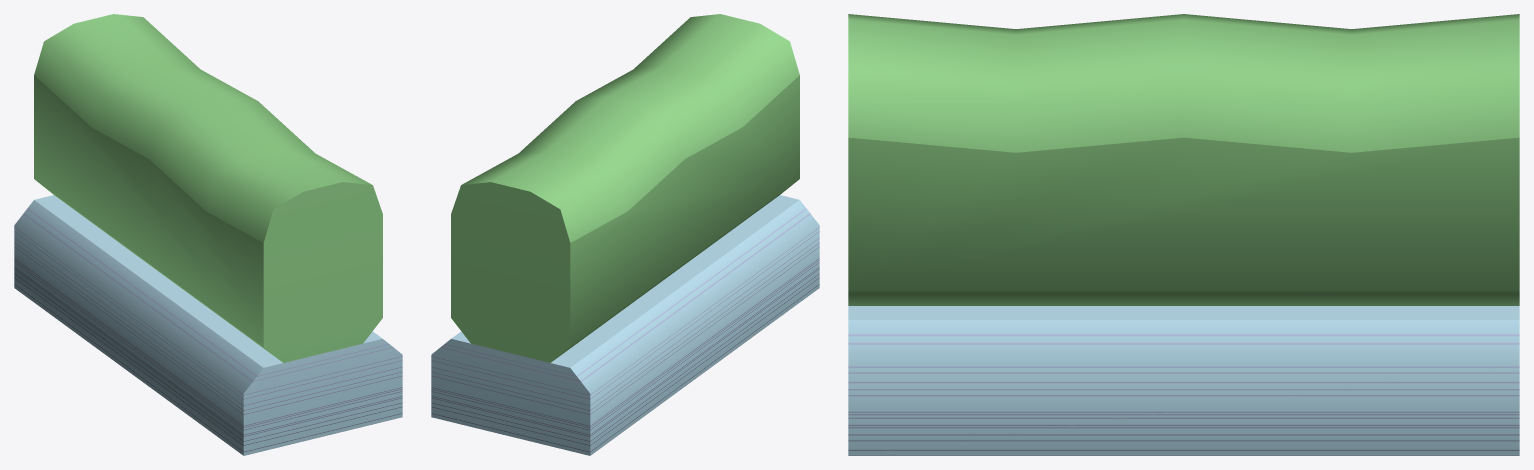
The model's file is hedge.glb.
3 views of the same model, side by side, from view 1: azimuth 30°, elevation 25°; view 2: azimuth 150°, elevation 25°; view 3: azimuth 270°, elevation 25° (orthographic). The views are drawn at different scales.
Visible parts, largest first — view 1: hedge-large; view 2: hedge-large; view 3: hedge-large.
Part boxes in pixels (x1,y1,x2,y2): hedge-large: (14, 14, 402, 455); hedge-large: (431, 14, 819, 455); hedge-large: (848, 14, 1519, 455).
Bounding box in the file's own units: 0.3999 × 0.6001 × 1.
1 material, 1 textured.
